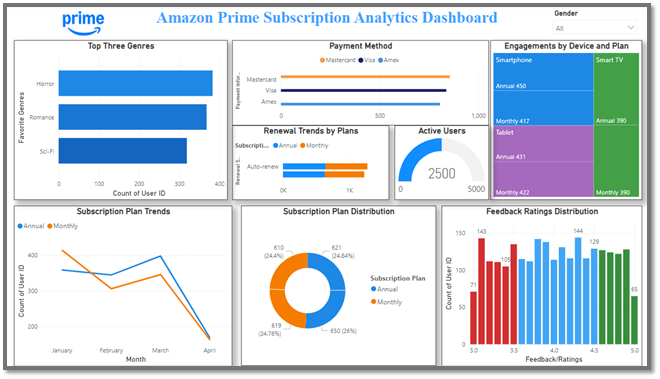

Layout of this report page (visuals, bound fields, positions):
{"tool":"powerbi","page":{"name":"Page 1","canvas":[1280,720],"ordinal":0},"visuals":[{"type":"barChart","title":"Renewal Trends by Plans","fields":{"Category":["amazon_prime_users.Renewal Status"],"Series":["amazon_prime_users.Subscription Plan"],"Y":["CountNonNull(amazon_prime_users.User ID)"]},"box":[451.8,239.6,312.5,149],"z":0},{"type":"lineChart","title":"Subscription Plan Trends","fields":{"Category":["amazon_prime_users.Membership Start Date.Variation.Date Hierarchy.Month","amazon_prime_users.Membership End Date.Variation.Date Hierarchy.Month"],"Y":["CountNonNull(amazon_prime_users.User ID)"],"Series":["amazon_prime_users.Subscription Plan"]},"box":[16.2,399.9,435.6,320.6],"z":1000},{"type":"donutChart","title":"Subscription Plan Distribution","fields":{"Category":["amazon_prime_users.Subscription Plan","amazon_prime_users.Gender"],"Y":["CountNonNull(amazon_prime_users.User ID)"],"Series":["amazon_prime_users.Gender"]},"box":[469.3,400.7,388.3,319.7],"z":2000},{"type":"treemap","title":"Engagements  by Device and Plan","fields":{"Group":["amazon_prime_users.Devices Used"],"Values":["CountNonNull(amazon_prime_users.Engagement Metrics)"],"Details":["amazon_prime_users.Subscription Plan"]},"box":[966.7,69.6,302.8,319],"z":3000},{"type":"clusteredColumnChart","title":"Feedback Ratings Distribution","fields":{"Category":["amazon_prime_users.Feedback/Ratings"],"Y":["CountNonNull(amazon_prime_users.User ID)"]},"box":[869.5,399.9,399.9,320.6],"z":4000},{"type":"gauge","title":"Active Users","fields":{"Y":["amazon_prime_users.Total Active Users"]},"box":[775.6,239.6,187.8,149],"z":5000},{"type":"clusteredBarChart","title":"Top  Three Genres","fields":{"Category":["amazon_prime_users.Favorite Genres"],"Y":["CountNonNull(amazon_prime_users.User ID)"]},"box":[16.2,69.6,425.9,319],"z":6000},{"type":"textbox","box":[0,0,1280.8,56.7],"z":7000},{"type":"image","box":[108.5,1.6,92.3,68],"z":8000},{"type":"clusteredBarChart","title":"Payment Method","fields":{"Y":["CountNonNull(amazon_prime_users.Subscription Plan)"],"Series":["amazon_prime_users.Payment Information"],"Category":["amazon_prime_users.Payment Information"]},"box":[451.8,69.6,511.7,170],"z":9000},{"type":"slicer","fields":{"Values":["amazon_prime_users.Gender"]},"box":[1081.6,1.6,187.8,64.8],"z":10000}]}

Visuals, with their boxes in screenshot pixels (x1, y1, x2, y2), scaled from the page's 1280x720 canvas onto the 660x379 screenshot:
"Renewal Trends by Plans" barChart: select_region(233, 126, 394, 205)
"Subscription Plan Trends" lineChart: select_region(8, 211, 233, 378)
"Subscription Plan Distribution" donutChart: select_region(242, 211, 442, 378)
"Engagements  by Device and Plan" treemap: select_region(498, 37, 655, 205)
"Feedback Ratings Distribution" clusteredColumnChart: select_region(448, 211, 655, 378)
"Active Users" gauge: select_region(400, 126, 497, 205)
"Top  Three Genres" clusteredBarChart: select_region(8, 37, 228, 205)
textbox: select_region(0, 0, 659, 30)
image: select_region(56, 1, 104, 37)
"Payment Method" clusteredBarChart: select_region(233, 37, 497, 126)
slicer - amazon_prime_users.Gender: select_region(558, 1, 655, 35)
